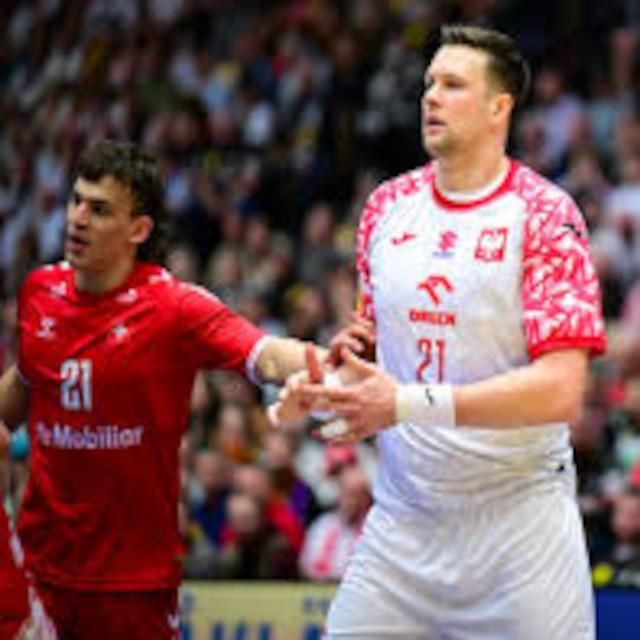mezczyzna: (330, 21, 640, 640), (0, 137, 303, 640)
